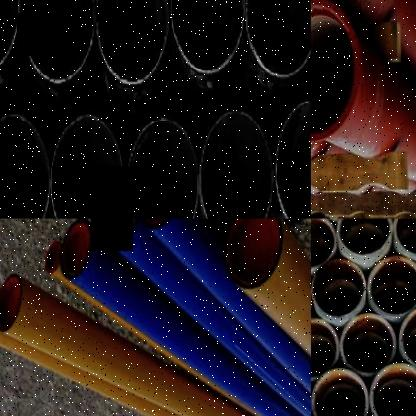pipe: (197, 108, 277, 219), (48, 109, 126, 219), (123, 115, 202, 218), (311, 0, 361, 141), (18, 0, 98, 85), (92, 0, 168, 83), (167, 0, 246, 74), (0, 112, 52, 218), (242, 0, 311, 77), (273, 97, 311, 218), (225, 218, 282, 288), (339, 313, 397, 375), (311, 259, 365, 320), (367, 256, 416, 316), (311, 368, 368, 416), (368, 362, 416, 416), (338, 219, 392, 256), (60, 219, 92, 279), (311, 318, 338, 381), (0, 0, 20, 72), (311, 219, 336, 270), (0, 273, 21, 331), (399, 306, 416, 372), (103, 219, 140, 246), (391, 218, 416, 256), (46, 241, 61, 274)
